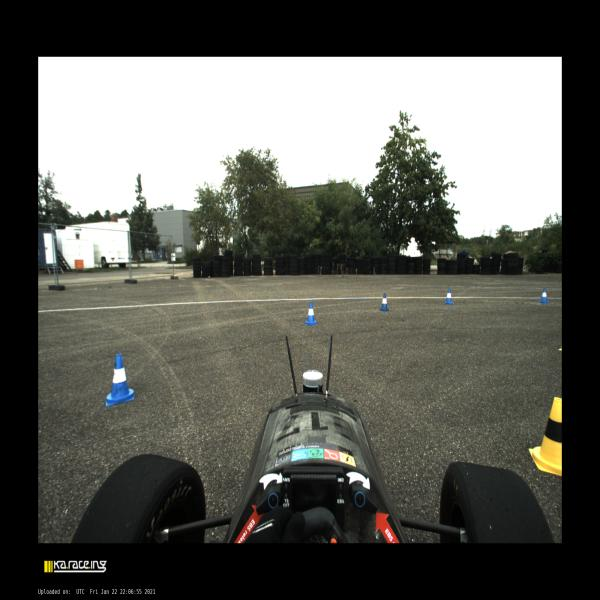blue_cone: (106, 354, 134, 406), (305, 302, 317, 325), (538, 288, 549, 303), (380, 294, 389, 312), (444, 289, 454, 305)
yellow_cone: (528, 397, 562, 476)
